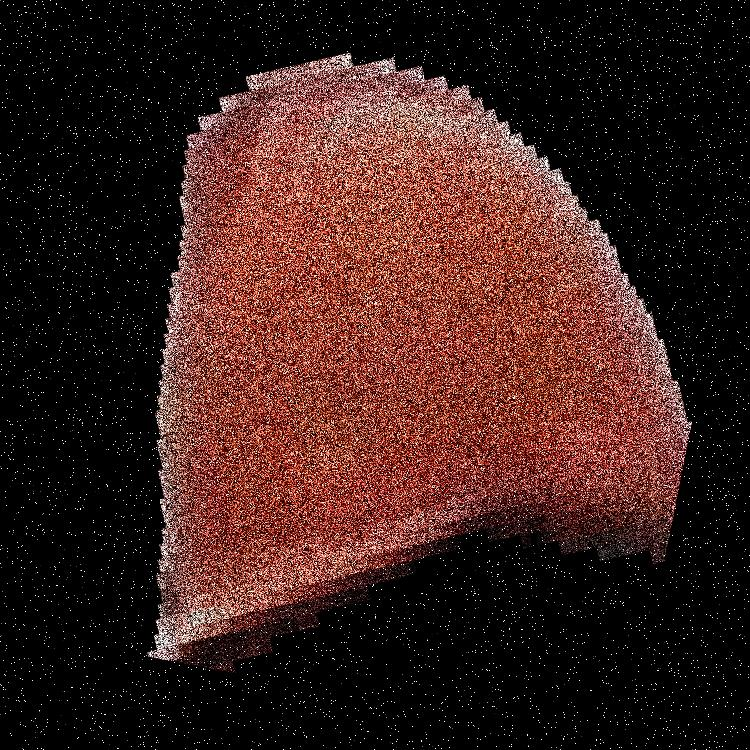Capacete: (232, 0, 624, 749)
